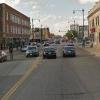Car: (23, 41, 82, 62)
